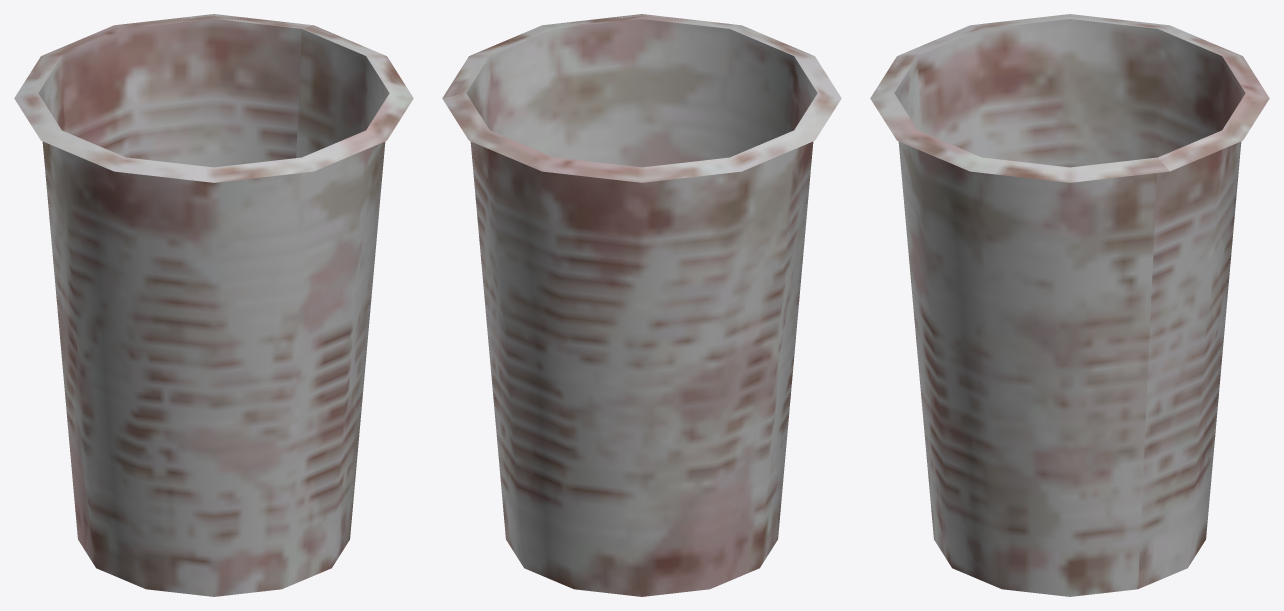
Rendered from SM_TrashScrapCup_01_A.fbx.
3 renders of one model, left to right at view 1: azimuth 30°, elevation 25°; view 2: azimuth 150°, elevation 25°; view 3: azimuth 270°, elevation 25°, orthographic.
Visible parts, largest first — view 1: SM_TrashScrapCup_01_A; view 2: SM_TrashScrapCup_01_A; view 3: SM_TrashScrapCup_01_A.
Boxes of the visible parts, box(x1,y1,x2,y2) form: SM_TrashScrapCup_01_A: box(14, 14, 413, 596); SM_TrashScrapCup_01_A: box(442, 14, 841, 596); SM_TrashScrapCup_01_A: box(870, 14, 1269, 596).
Bounding box in the file's own units: 7.11 × 7.11 × 8.76.
1 material, 1 textured.
